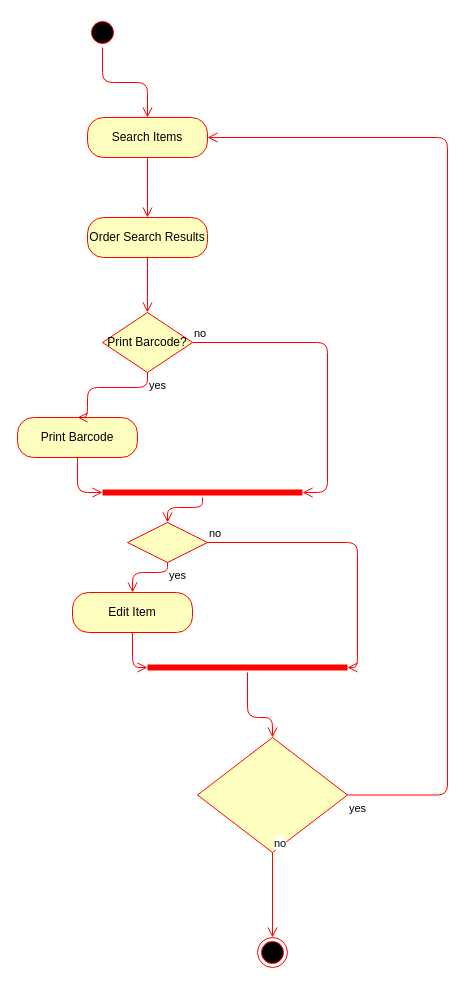
The diagram is 475 pixels wide and 985 high, and some of its shapes have lost their labels. The centre of each missing label's shape, as x and y in pixels:
"Edit Item?" goes at [167,542].
"Perform another search" goes at [272,794].
